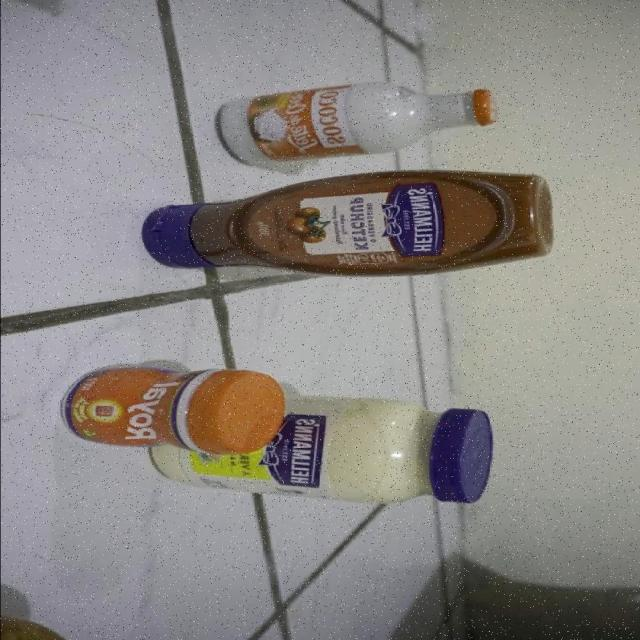CoconutMilk: (210, 76, 510, 158)
Ketchup: (140, 168, 556, 278)
Mayonnaise: (289, 394, 488, 507)
Yeast: (63, 362, 282, 452)
